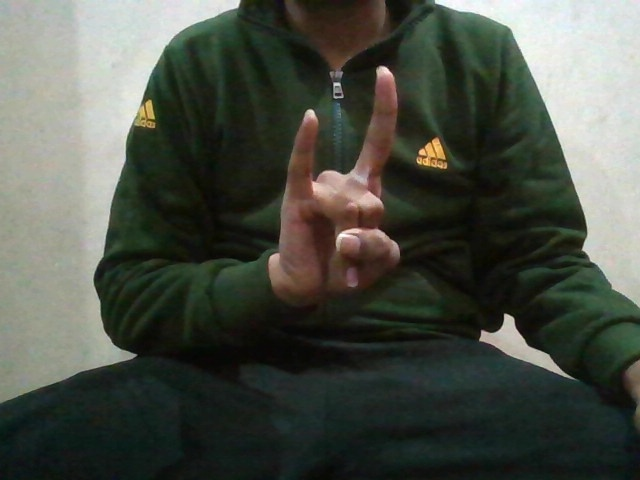U: (274, 70, 413, 301)
